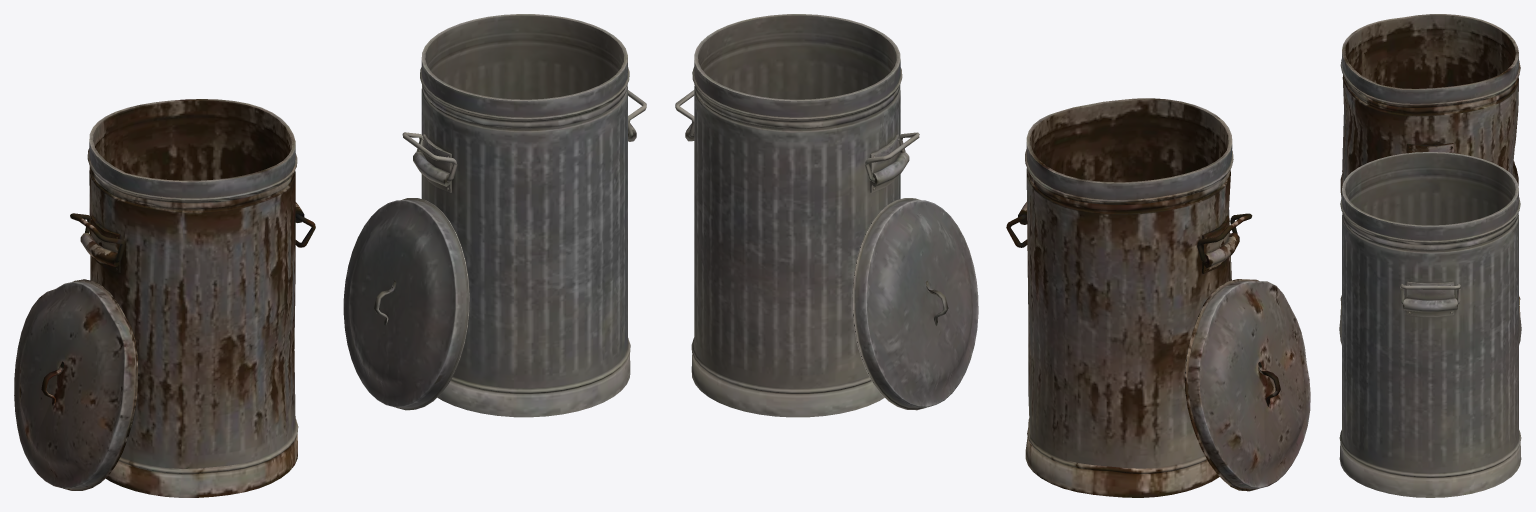
Rendered from trash-can.glb.
3 views of the same model, side by side, from view 1: azimuth 30°, elevation 25°; view 2: azimuth 150°, elevation 25°; view 3: azimuth 270°, elevation 25° (orthographic). The views are drawn at different scales.
Visible parts, largest first — view 1: metal_trash_can_handle_left, metal_trash_can_rust; view 2: metal_trash_can_handle_left, metal_trash_can_rust; view 3: metal_trash_can_handle_left, metal_trash_can_rust.
Boxes of the visible parts, x1,y1,x2,y2 form: metal_trash_can_handle_left: (343,14,646,417); metal_trash_can_rust: (14,99,315,497); metal_trash_can_handle_left: (675,14,978,417); metal_trash_can_rust: (1006,98,1310,497); metal_trash_can_handle_left: (1339,152,1521,497); metal_trash_can_rust: (1340,14,1520,317).
Bounding box in the file's own units: 1.78 × 0.9062 × 0.5543.
Materials: 2 (2 with a texture image).
